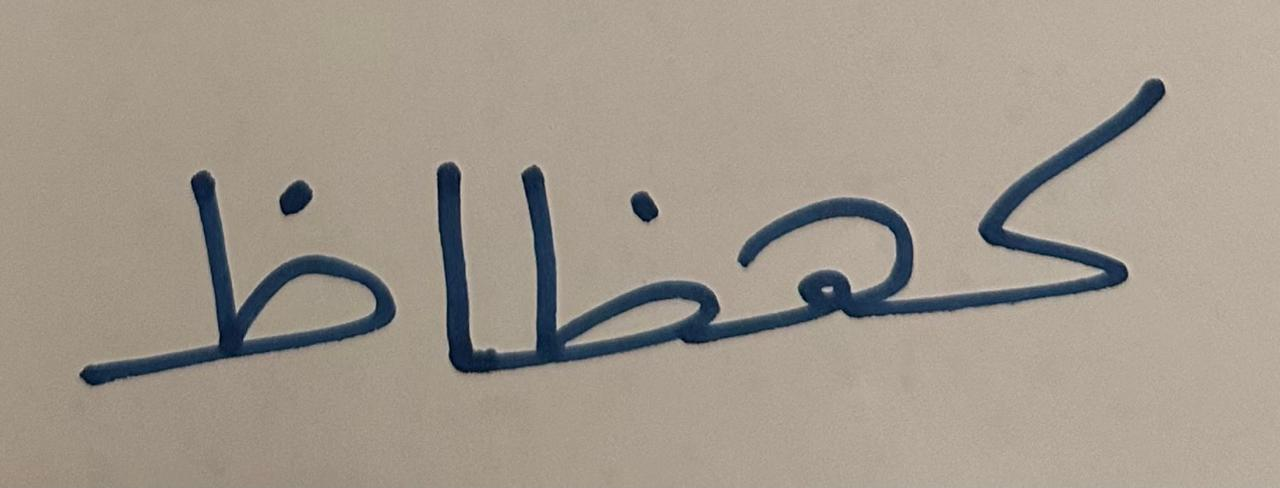alef: (416, 71, 492, 420)
jeem: (726, 43, 943, 411)
khah: (947, 32, 1210, 403)
zain: (30, 56, 410, 430), (495, 100, 722, 429)
